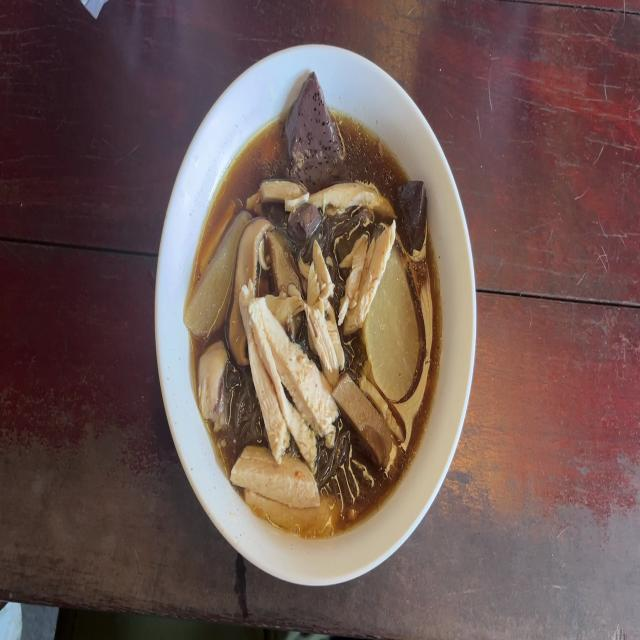boiled_chicken_blood_jelly: (284, 68, 343, 186), (398, 181, 432, 246), (291, 199, 318, 248)
chicken_shredded: (241, 300, 326, 444), (241, 454, 329, 531), (342, 228, 399, 322), (256, 176, 396, 214), (307, 252, 343, 365), (197, 358, 231, 418)
daikon_radish: (374, 260, 418, 396), (181, 218, 236, 325)
noodle: (192, 115, 437, 535)
